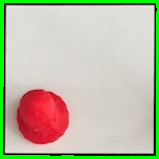Red Pawn: (14, 84, 74, 147)
